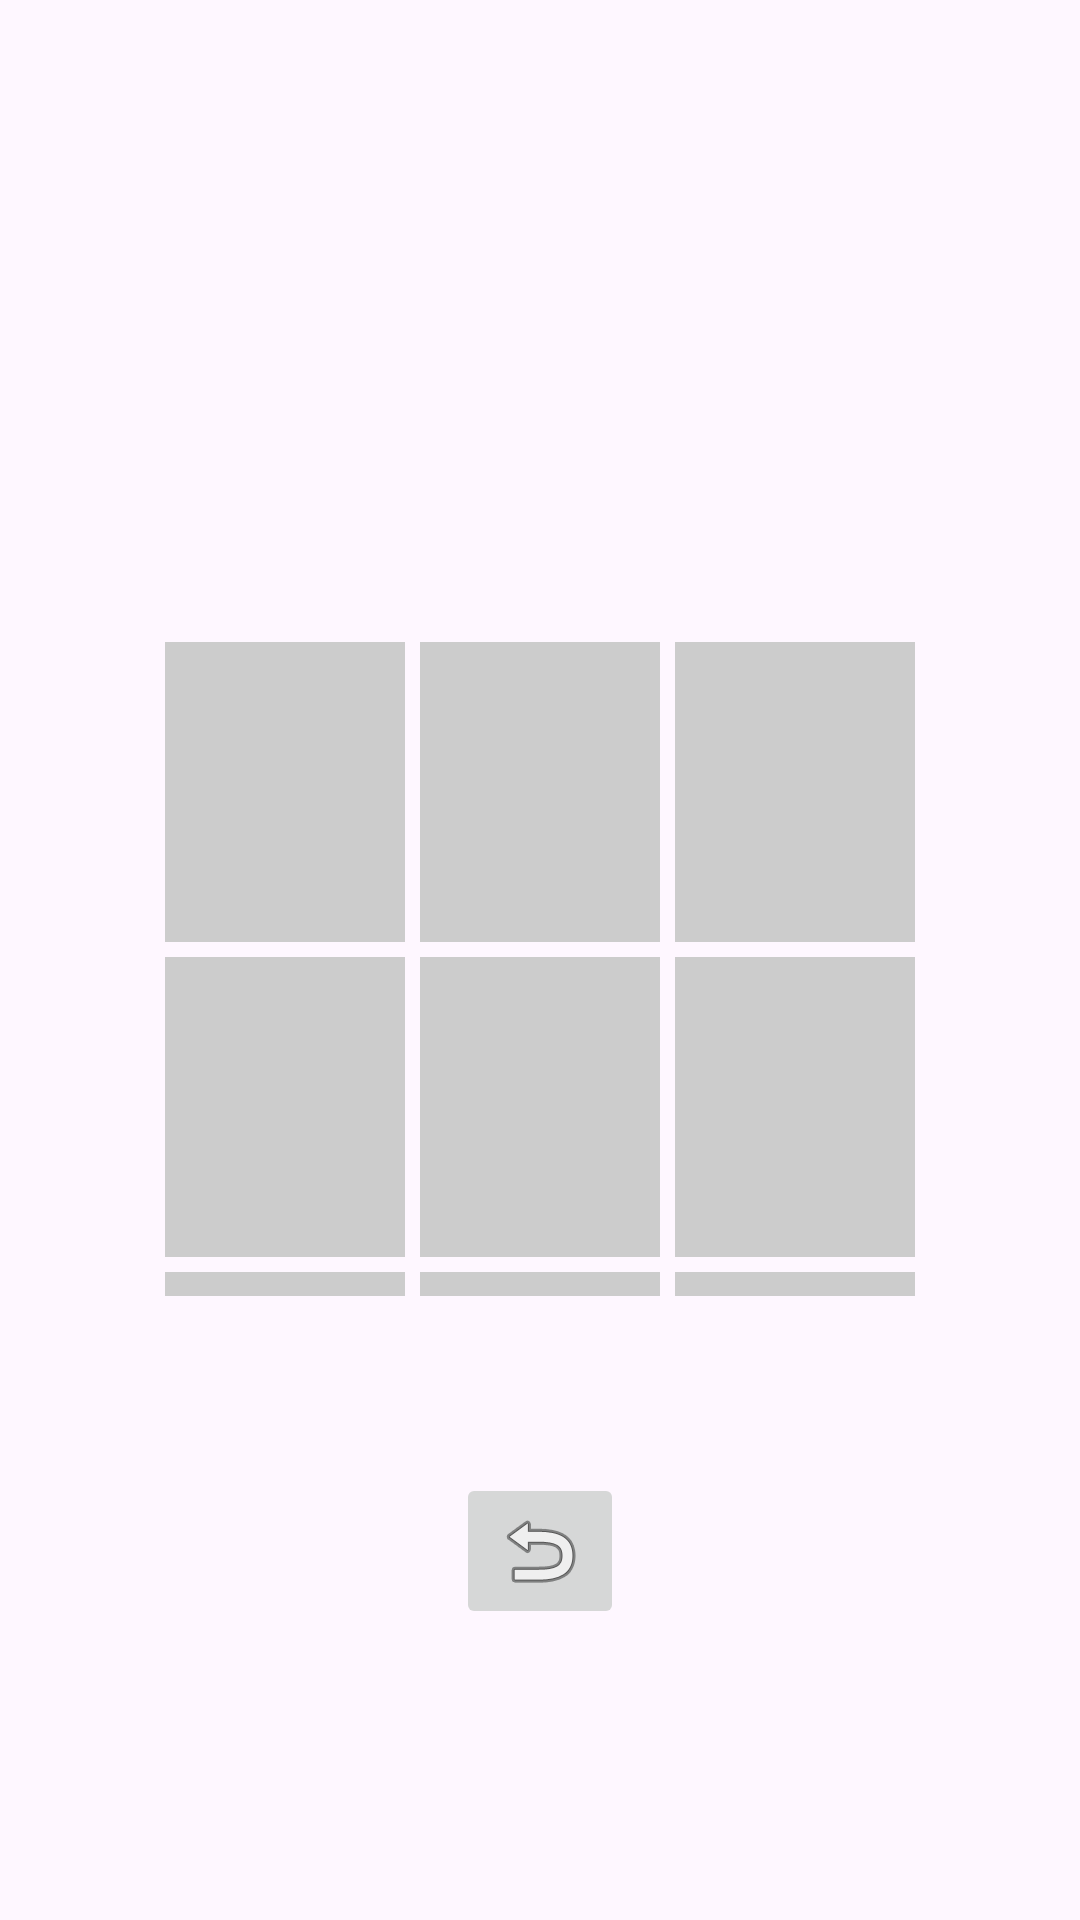

Icon bounding boxes for this 1080px×1920px phone screenshot, format [x1=x1, y1=y1, x2=x2, y2=y2]:
revert: [x1=468, y1=1491, x2=612, y2=1611]
